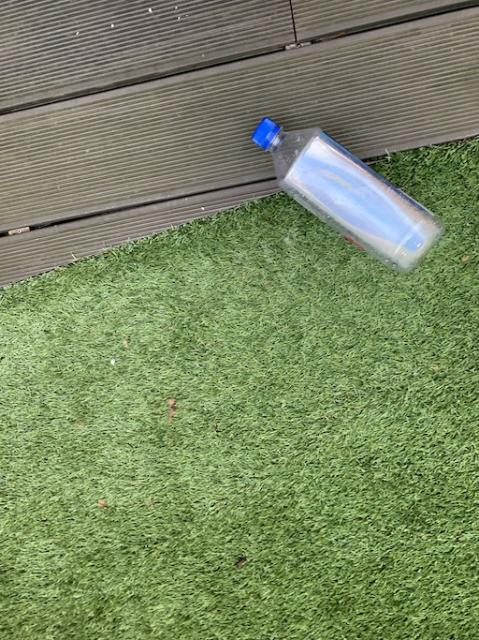plastic: (251, 116, 442, 271)
